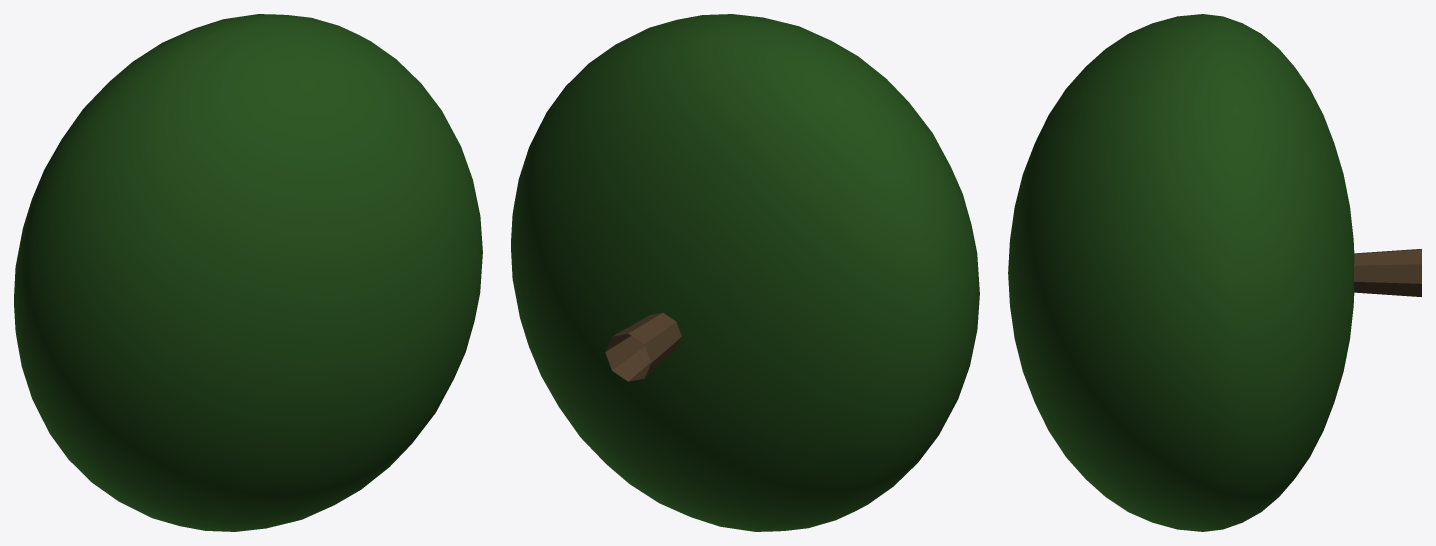
Rendered from citrus_plain_b.obj.
The picture shows the model from 3 angles, left to right: view 1: azimuth 30°, elevation 25°; view 2: azimuth 150°, elevation 25°; view 3: azimuth 270°, elevation 25°; orthographic projection. The views are drawn at different scales.
Visible parts, largest first — view 1: canopy; view 2: canopy, trunk; view 3: canopy, trunk.
Part boxes in pixels (x1,y1,x2,y2): canopy: (14, 14, 482, 531); canopy: (511, 14, 979, 531); trunk: (605, 312, 681, 381); canopy: (1008, 14, 1354, 531); trunk: (1354, 249, 1421, 296).
Bounding box in the file's own units: 2.93 × 3.17 × 2.5.
